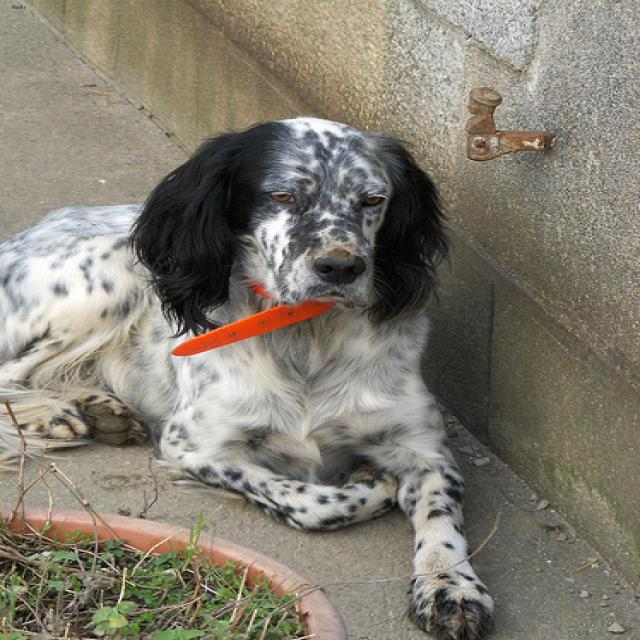dog-english_setter: (2, 110, 510, 637)
